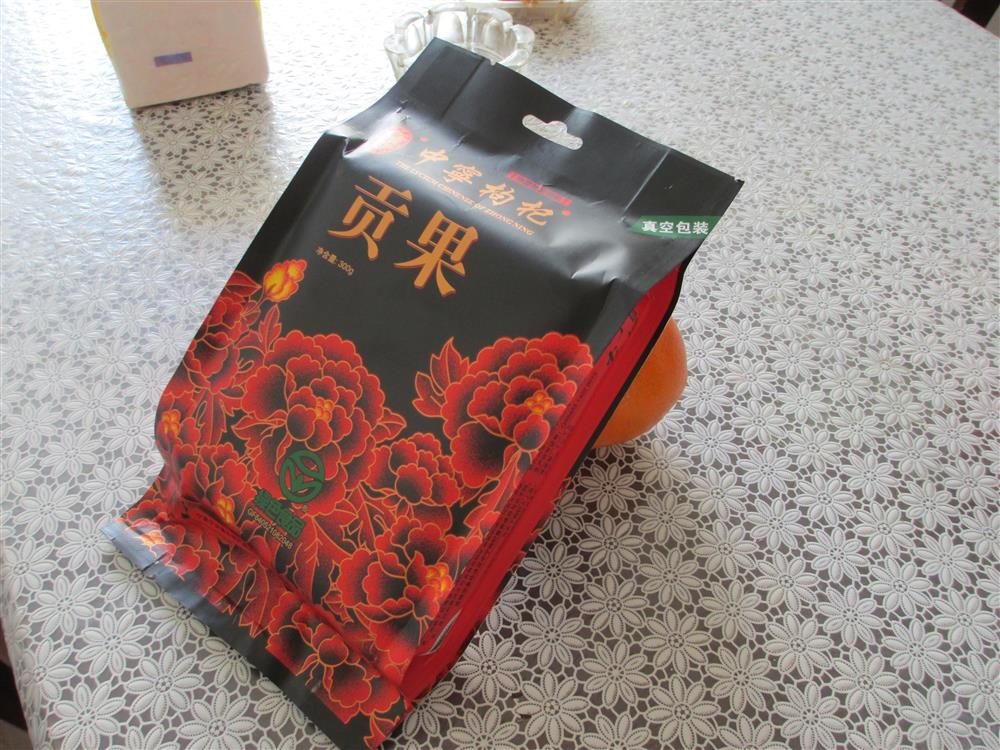Lycium_chinensis: (98, 29, 749, 736)
